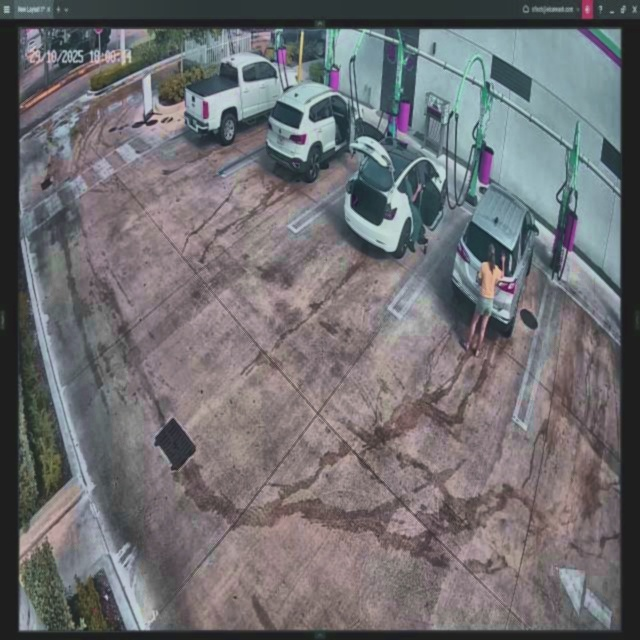Car: (453, 182, 538, 338), (342, 136, 448, 258), (264, 79, 364, 180)
